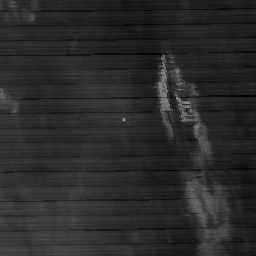Target: (120, 116, 127, 122)
